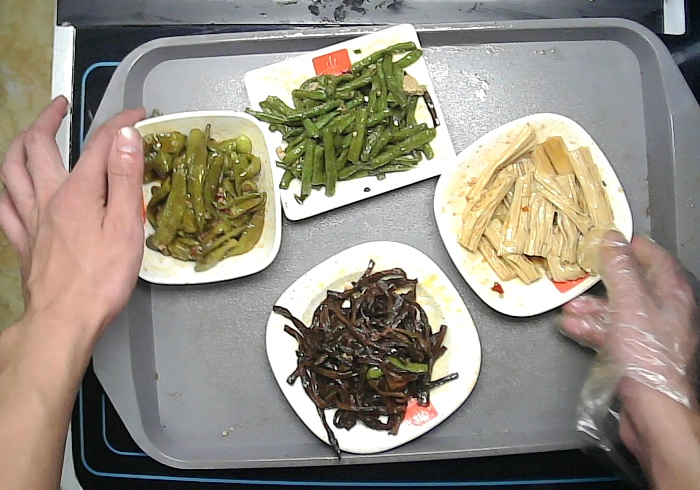SHKJ-Bai_Se_Cai_Die: (432, 111, 636, 318)
SHKJ-Bai_Se_Si_Fang_Cai_Die: (262, 238, 484, 455)
SHKJ-Bai_Se_Xiao_Fang_Die: (135, 108, 284, 287)
SHKJ-Si_Fang_Min: (241, 21, 459, 221)
